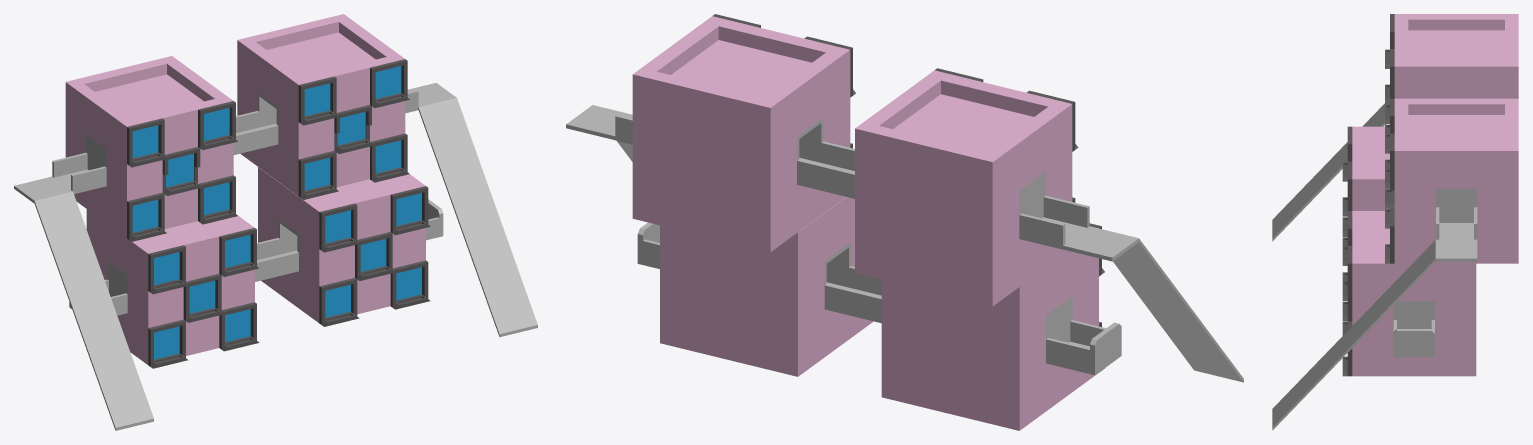
The model's file is Rubix cube pink.fbx.
3 views of the same model, side by side, from view 1: azimuth 30°, elevation 25°; view 2: azimuth 150°, elevation 25°; view 3: azimuth 270°, elevation 25° (orthographic). The views are drawn at different scales.
Visible parts, largest first — view 1: Cube.003; view 2: Cube.003; view 3: Cube.003.
Boxes of the visible parts, x1,y1,x2,y2 form: Cube.003: (14, 14, 537, 430); Cube.003: (566, 14, 1243, 430); Cube.003: (1272, 14, 1518, 430).
Bounding box in the file's own units: 29355 × 16083 × 14701.
